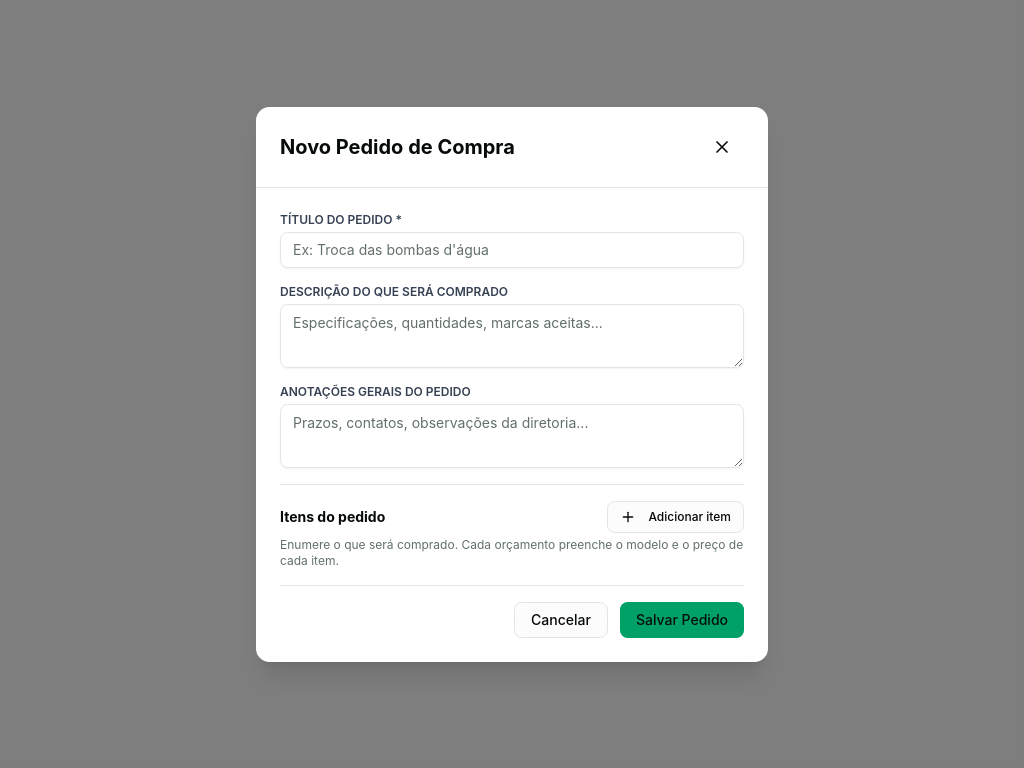
Scenario: PurchaseRequestFormModal › surfaces submission errors
Type "Pedido" into the field labelled "Título do Pedido *".
click(512, 250); type("Pedido")  # box [280,232,744,268]
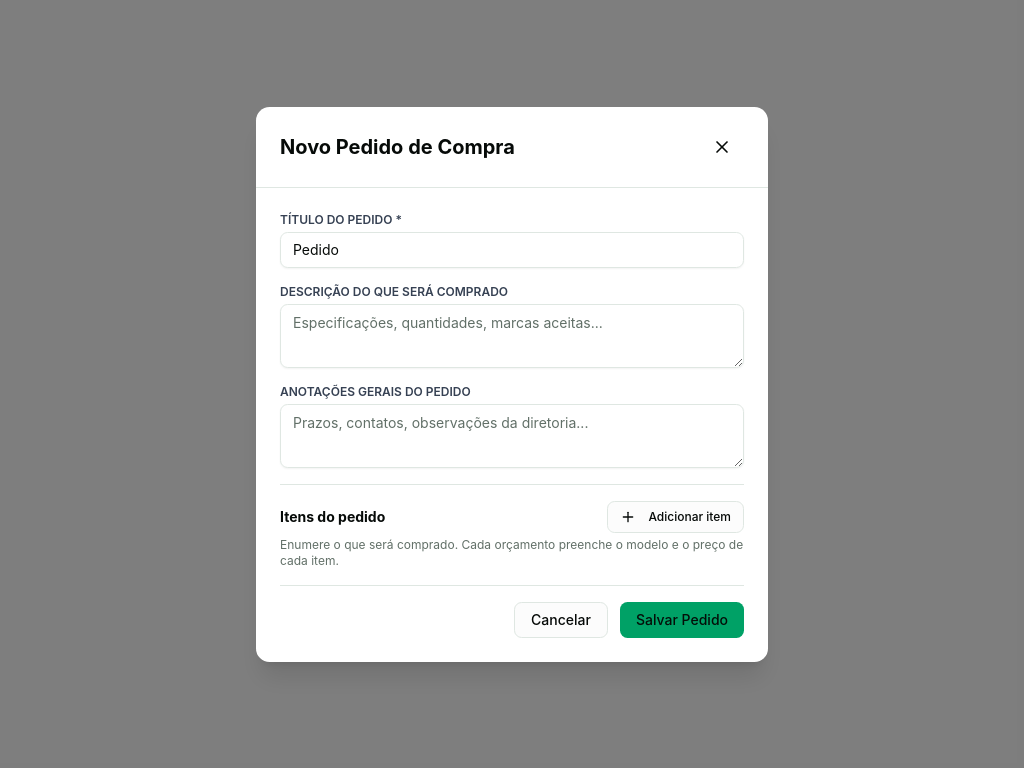
Submit the form with test id "purchase-request-form", box [256,188,768,662]
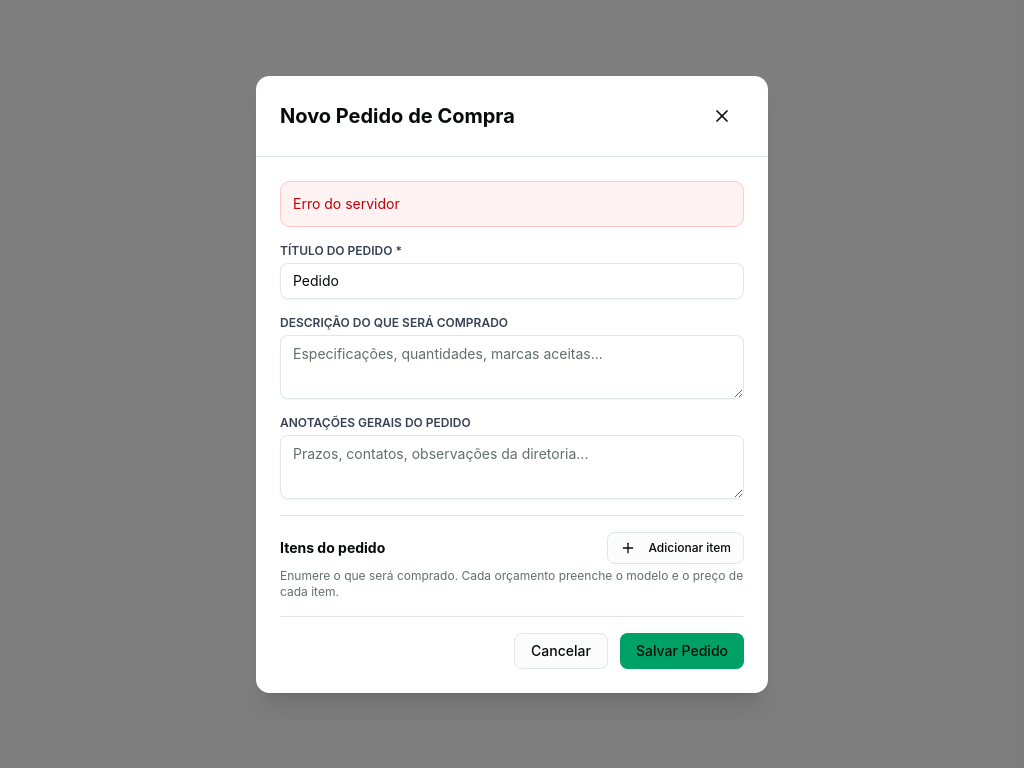
Expected: the text "Erro do servidor" is shown, [280,180,744,226]
